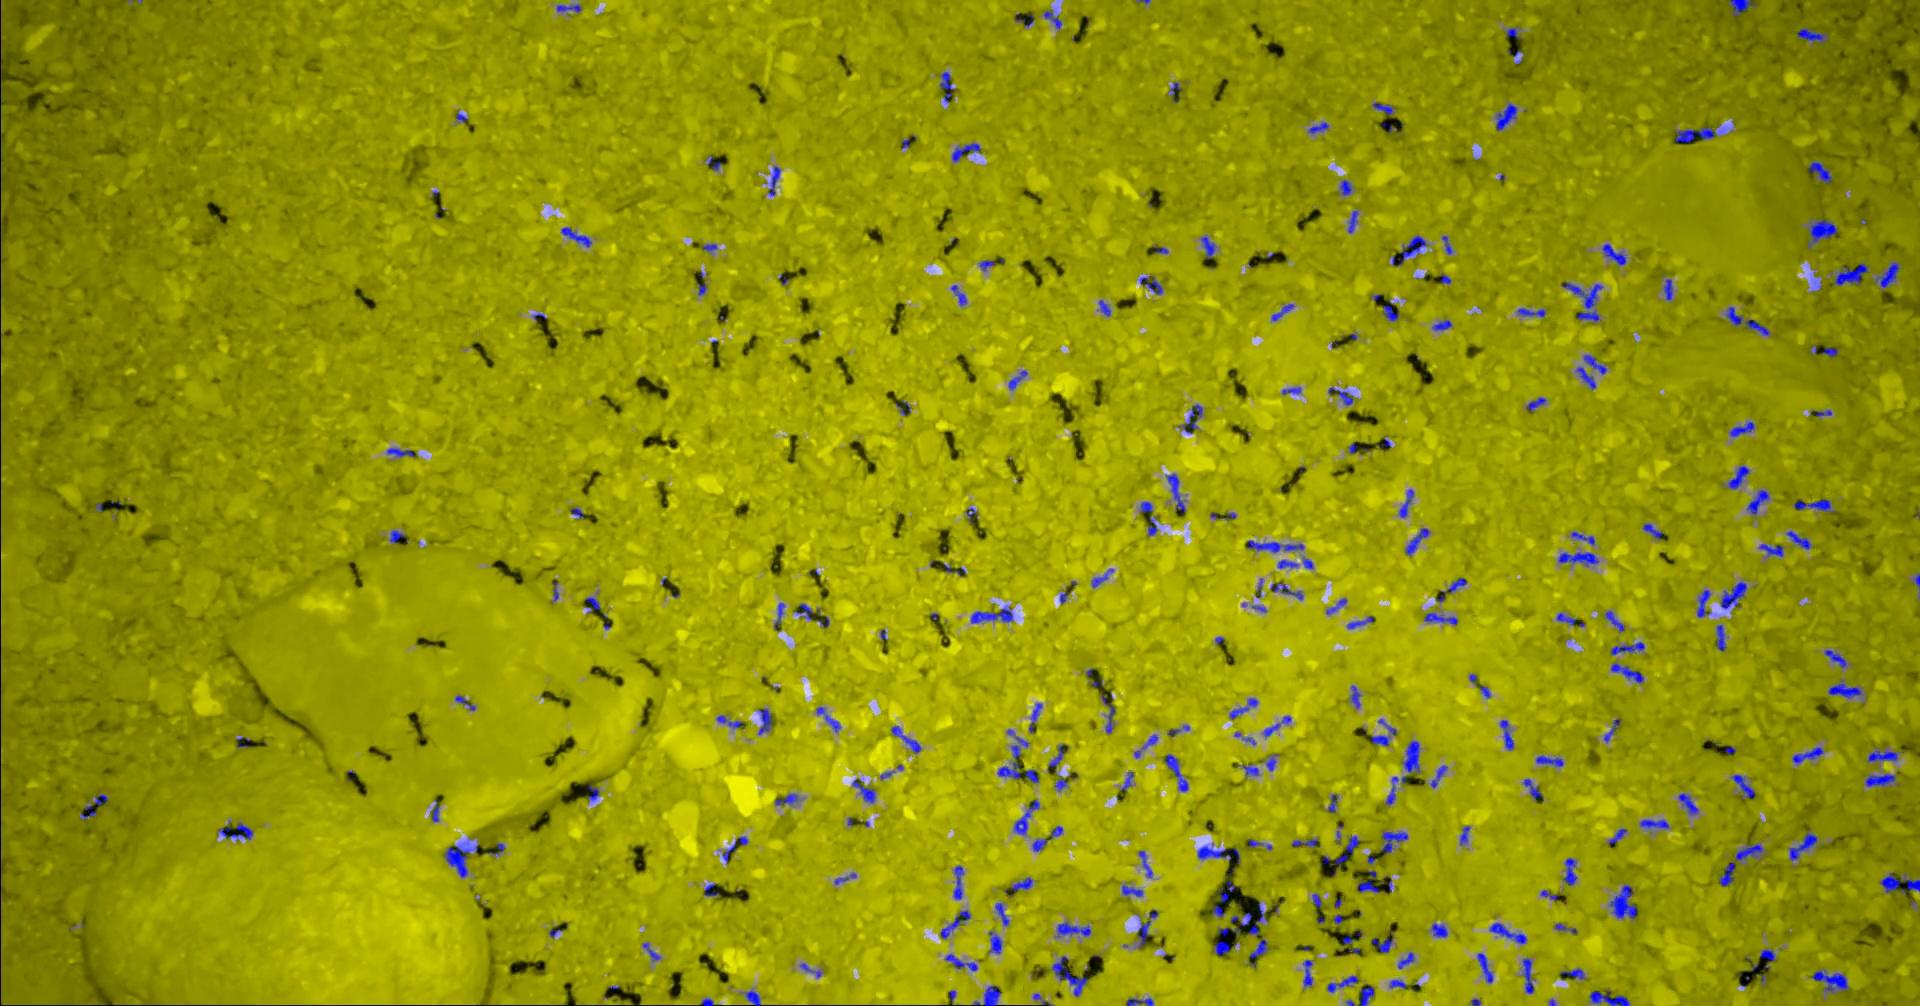ant: (1561, 282, 1603, 321), (1051, 956, 1087, 996), (997, 735, 1029, 779), (1724, 306, 1768, 335), (444, 843, 477, 876), (1390, 235, 1426, 265), (1609, 884, 1637, 920), (1239, 901, 1267, 935), (1013, 799, 1039, 835), (1879, 873, 1919, 895), (1164, 754, 1189, 791), (1211, 880, 1236, 917), (1789, 829, 1817, 860), (940, 909, 970, 937), (1808, 218, 1837, 246), (890, 725, 921, 752), (1335, 835, 1359, 868), (1811, 970, 1848, 992), (1164, 473, 1183, 513), (1435, 577, 1465, 602), (1137, 909, 1157, 948), (1488, 922, 1526, 942), (1832, 263, 1868, 285), (1719, 580, 1746, 608), (1197, 845, 1239, 862), (1246, 540, 1303, 553), (970, 606, 1013, 622), (1214, 927, 1239, 955), (1674, 126, 1716, 142), (723, 835, 747, 862), (1827, 680, 1862, 699), (1404, 527, 1429, 554), (1181, 404, 1203, 433), (1610, 663, 1643, 682), (218, 821, 251, 840), (560, 226, 590, 246), (1589, 989, 1629, 1005), (1876, 262, 1900, 287), (817, 706, 841, 732), (1495, 103, 1517, 130), (1380, 831, 1407, 854), (1229, 697, 1257, 719), (1385, 775, 1406, 804), (1270, 582, 1303, 600), (943, 953, 977, 970), (1731, 774, 1755, 798), (851, 779, 875, 803), (1263, 715, 1290, 737), (973, 984, 1001, 1005), (1140, 500, 1157, 535), (1248, 937, 1267, 967), (1601, 243, 1625, 265), (1726, 465, 1749, 489), (1746, 489, 1768, 514), (1790, 747, 1823, 763), (1793, 498, 1831, 512), (1004, 876, 1032, 895), (1796, 27, 1827, 43), (1402, 741, 1418, 772), (951, 144, 980, 161), (1557, 553, 1597, 565), (1808, 161, 1831, 183), (1327, 386, 1352, 405), (1357, 870, 1379, 892), (1477, 951, 1492, 982), (1327, 976, 1357, 991), (1735, 843, 1763, 860), (1057, 922, 1090, 936), (1785, 530, 1810, 549), (1575, 367, 1595, 389), (1677, 793, 1698, 814), (1583, 354, 1606, 373), (1610, 641, 1644, 654), (938, 71, 952, 102), (1398, 489, 1413, 517), (1498, 719, 1512, 749), (1718, 861, 1735, 887), (1091, 568, 1112, 587), (1605, 610, 1624, 631), (1370, 932, 1392, 951), (1139, 276, 1162, 293), (794, 603, 820, 619), (1823, 649, 1846, 667), (1603, 718, 1620, 741), (1430, 765, 1448, 788), (1521, 958, 1533, 993), (1730, 420, 1754, 437), (1697, 589, 1710, 617), (1556, 612, 1583, 626), (1562, 857, 1576, 885), (1730, 0, 1755, 15), (767, 165, 780, 196), (1008, 370, 1027, 390), (1523, 779, 1542, 799), (1271, 304, 1294, 320), (1423, 612, 1457, 624), (1759, 948, 1775, 970), (1138, 850, 1152, 876), (1029, 702, 1041, 732), (1865, 774, 1895, 786), (1048, 743, 1063, 767), (1382, 298, 1398, 320), (1867, 749, 1897, 761), (952, 865, 963, 899), (1043, 10, 1062, 28), (1346, 615, 1373, 627), (758, 708, 771, 734), (1570, 531, 1594, 545), (1759, 542, 1783, 556), (950, 285, 966, 305), (1200, 236, 1215, 258), (1324, 598, 1346, 614), (1535, 754, 1563, 766), (994, 902, 1008, 925), (643, 942, 659, 962), (1642, 523, 1662, 539), (455, 695, 475, 710), (1371, 102, 1393, 116), (1397, 951, 1415, 968), (716, 715, 742, 727), (1359, 986, 1374, 1005), (1559, 968, 1583, 979), (988, 931, 1001, 953), (1716, 624, 1726, 650), (1608, 828, 1625, 843), (1302, 959, 1312, 986), (1526, 398, 1545, 412), (775, 793, 797, 804), (1516, 307, 1545, 316), (1639, 819, 1669, 828), (705, 155, 721, 170), (1015, 11, 1032, 25), (386, 447, 414, 456), (1105, 705, 1114, 733), (1307, 122, 1328, 133), (775, 602, 783, 629), (1347, 210, 1357, 232), (895, 400, 910, 415), (1350, 685, 1360, 708), (1121, 884, 1142, 895), (585, 784, 599, 800), (1431, 923, 1448, 937), (556, 3, 582, 11), (1432, 319, 1451, 330), (585, 597, 599, 612), (80, 805, 95, 819), (745, 989, 759, 1005), (1338, 179, 1351, 196), (1098, 298, 1110, 316), (1126, 997, 1153, 1005), (1023, 768, 1037, 782), (389, 530, 404, 542), (1370, 735, 1389, 746), (1032, 838, 1048, 851), (1291, 838, 1317, 846), (1663, 278, 1672, 300), (1312, 893, 1321, 915), (1265, 753, 1276, 770), (1327, 794, 1337, 812), (1459, 826, 1469, 843), (703, 883, 717, 895), (1277, 559, 1297, 568), (1821, 347, 1837, 357), (1242, 765, 1258, 775), (430, 799, 438, 821), (1388, 979, 1406, 988), (94, 794, 107, 805), (0, 133, 1, 191)
